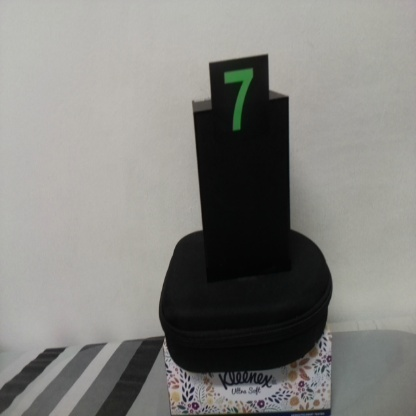id_7: (209, 62, 269, 153)
